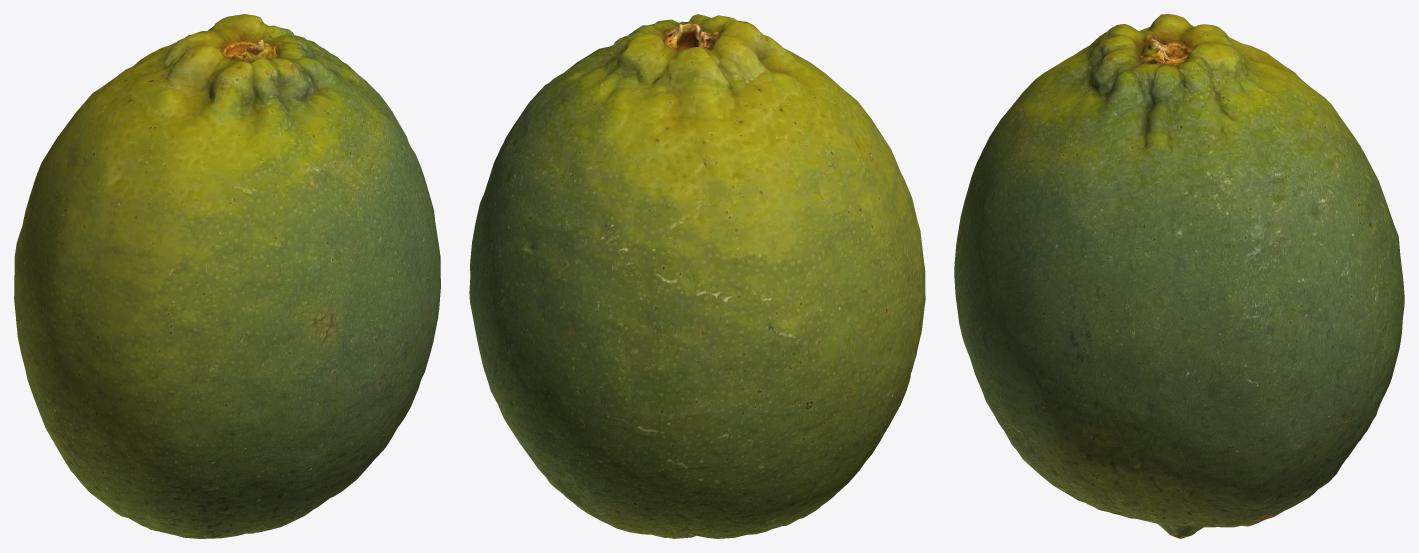
The model's file is lime.glb.
The picture shows the model from 3 angles, left to right: view 1: azimuth 30°, elevation 25°; view 2: azimuth 150°, elevation 25°; view 3: azimuth 270°, elevation 25°; orthographic projection.
Parts seen in each view (by area): view 1: food_lime_01; view 2: food_lime_01; view 3: food_lime_01.
Boxes of the visible parts, x1,y1,x2,y2 form: food_lime_01: (14,14,440,538); food_lime_01: (469,14,925,538); food_lime_01: (954,14,1404,538).
Size of the model in its own units: 0.0601 by 0.0754 by 0.0613.
1 material, 1 textured.
